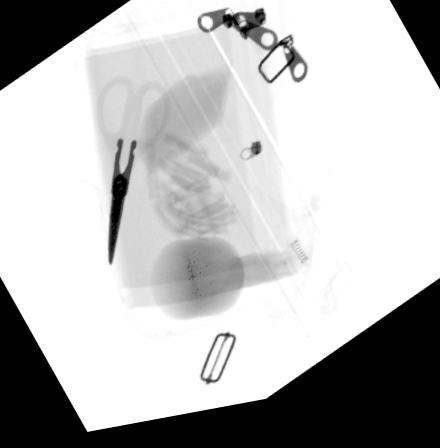Scissors: (95, 79, 171, 269)
